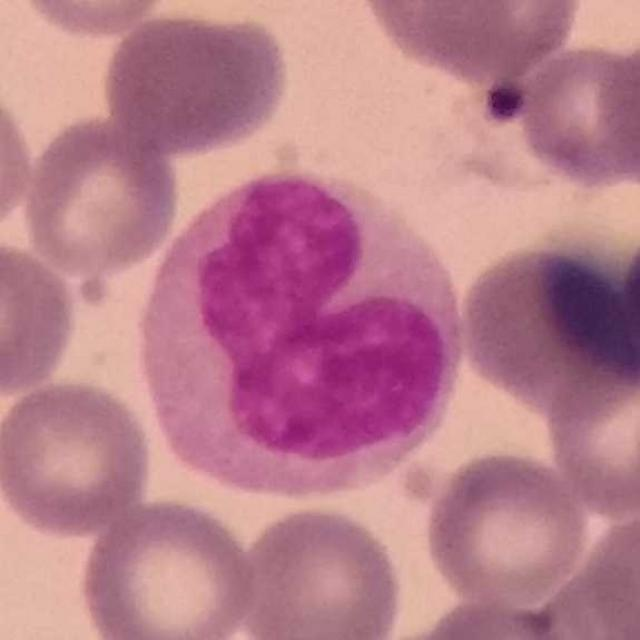Monocyte: (139, 166, 465, 484)
Platelets: (479, 78, 528, 128)
RBC: (454, 248, 637, 420), (97, 6, 294, 158), (419, 445, 593, 609), (16, 110, 182, 280), (74, 493, 262, 640), (0, 375, 157, 540), (228, 501, 409, 640), (506, 38, 638, 191), (354, 0, 582, 81), (542, 346, 640, 520), (0, 234, 82, 402), (522, 525, 638, 640), (392, 593, 583, 640), (592, 22, 640, 192), (580, 505, 640, 640), (10, 0, 178, 40), (0, 80, 38, 243)
